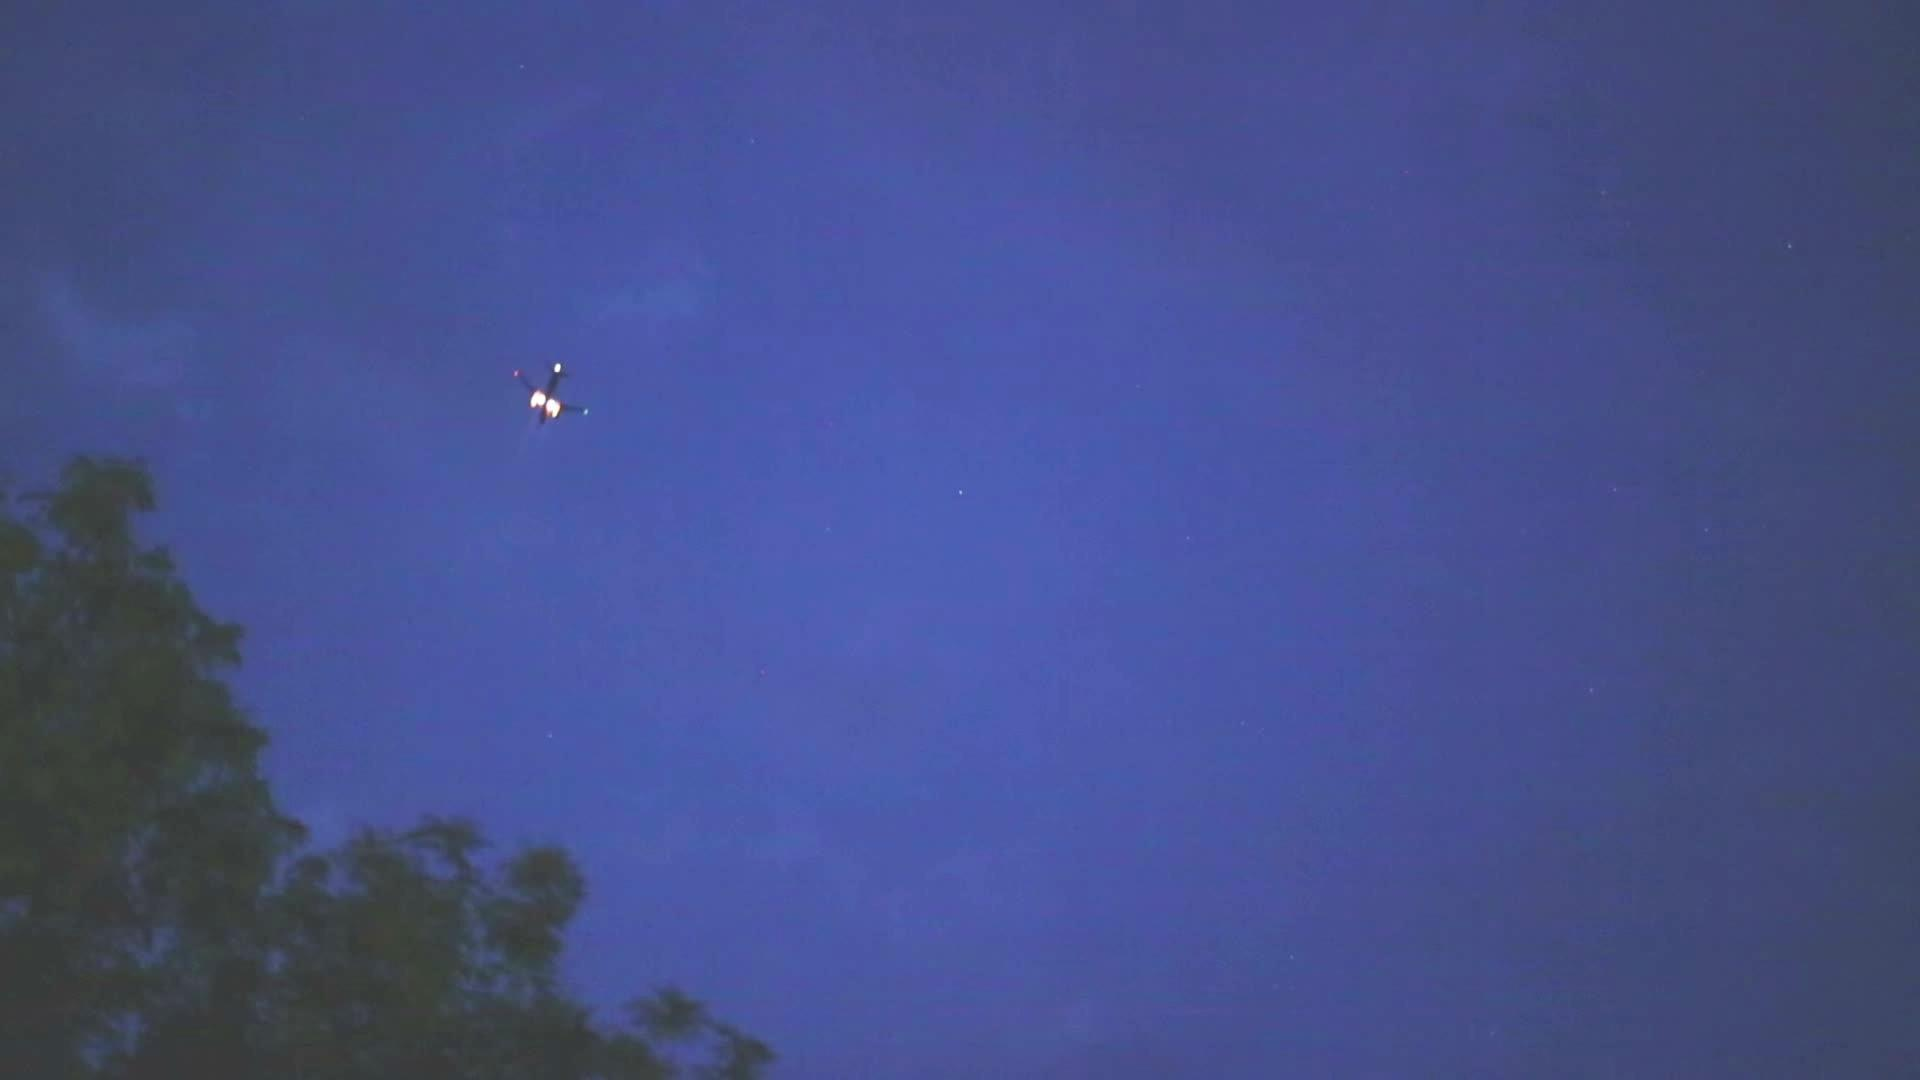Plane: (491, 345, 609, 443)
